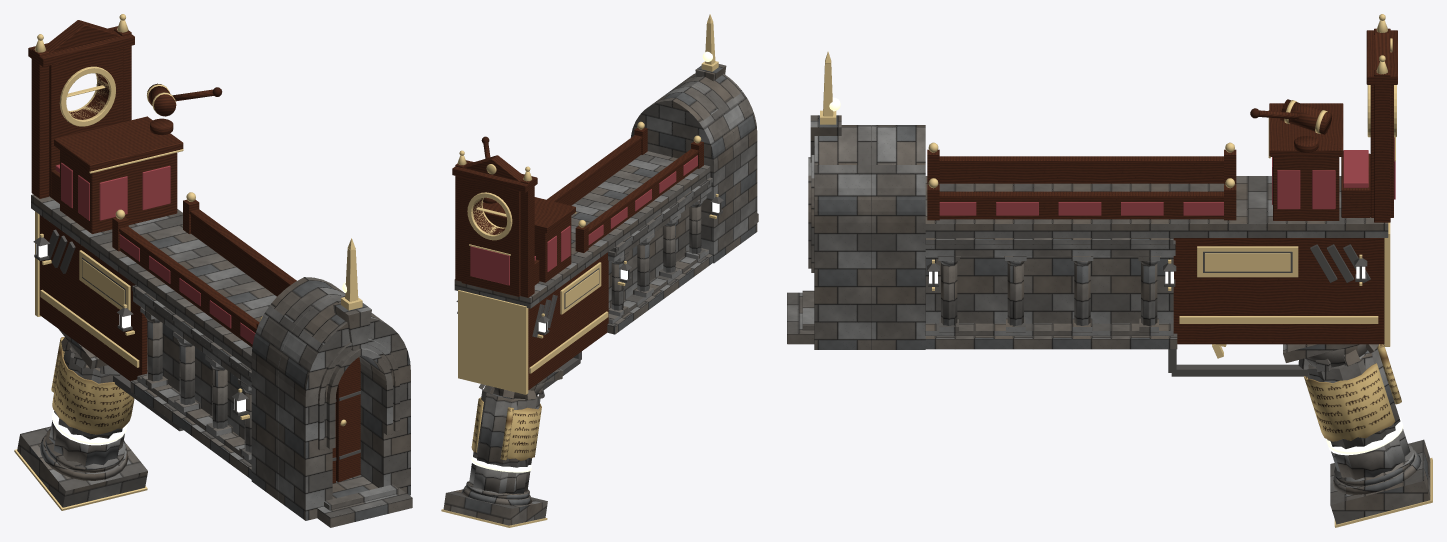
Rendered from writ.fbx.
The picture shows the model from 3 angles, left to right: view 1: azimuth 30°, elevation 25°; view 2: azimuth 150°, elevation 25°; view 3: azimuth 270°, elevation 25°; orthographic projection. The views are drawn at different scales.
Parts seen in each view (by area): view 1: Body, Bench, Mag, DoorL, Gavel; view 2: Body, Bench, Mag; view 3: Body, Bench, Mag, Gavel.
Part boxes in pixels (bbox=[...]): Body: bbox=[31, 192, 412, 527]; Bench: bbox=[28, 14, 183, 233]; Mag: bbox=[14, 410, 147, 510]; DoorL: bbox=[336, 357, 360, 482]; Gavel: bbox=[147, 83, 222, 116]; Body: bbox=[454, 14, 758, 467]; Bench: bbox=[452, 150, 576, 297]; Mag: bbox=[441, 455, 547, 527]; Body: bbox=[787, 51, 1401, 448]; Bench: bbox=[1268, 14, 1397, 222]; Mag: bbox=[1326, 416, 1432, 527]; Gavel: bbox=[1250, 99, 1332, 134].
Size of the model in its own units: 0.0871 by 0.2677 by 0.3309.
Materials: 12 (5 with a texture image).
